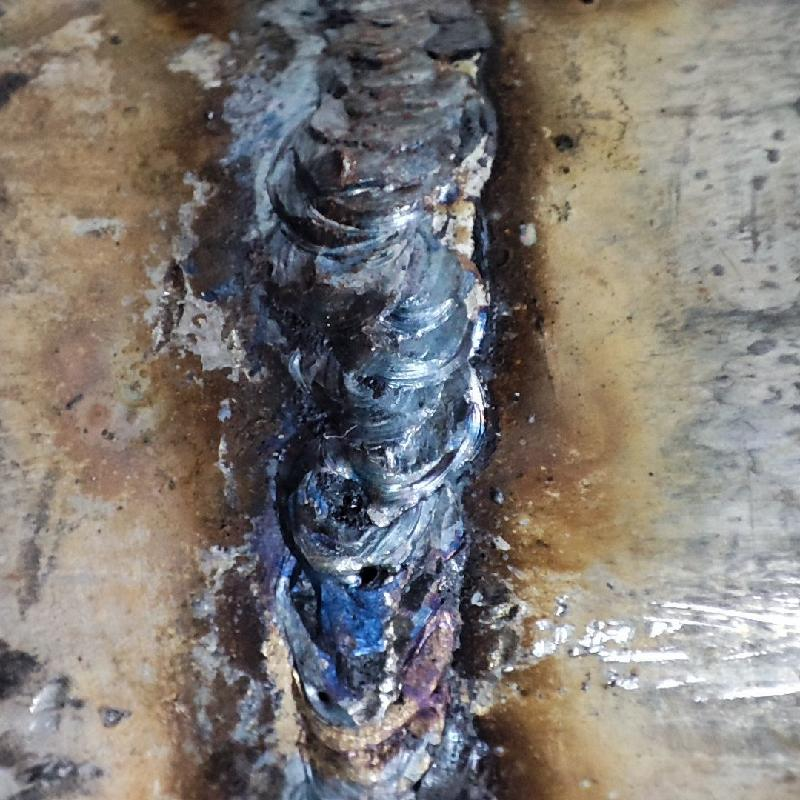Surface_pores: (344, 554, 398, 603), (311, 679, 345, 715)
